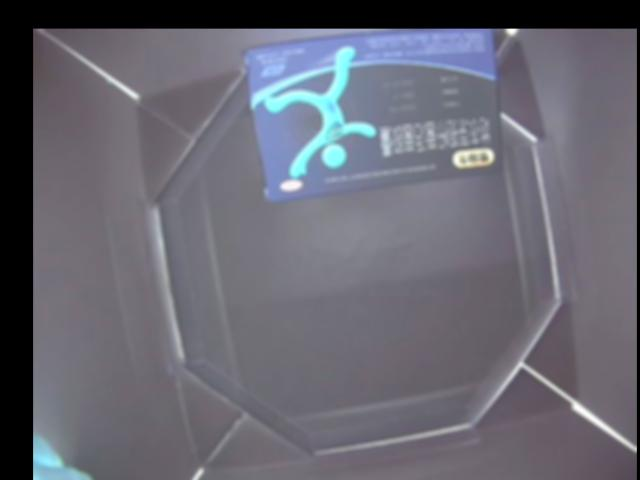Medicine: (248, 29, 503, 203)
